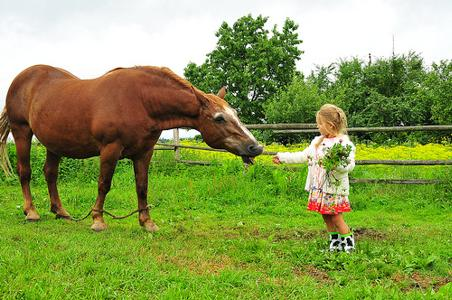person: (272, 105, 357, 255)
